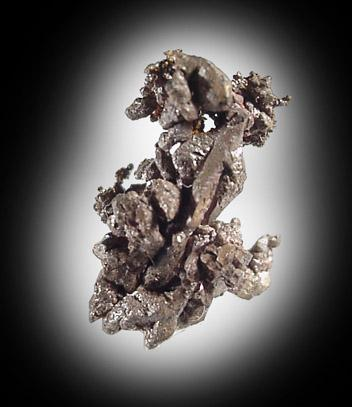copper: (90, 50, 290, 350)
